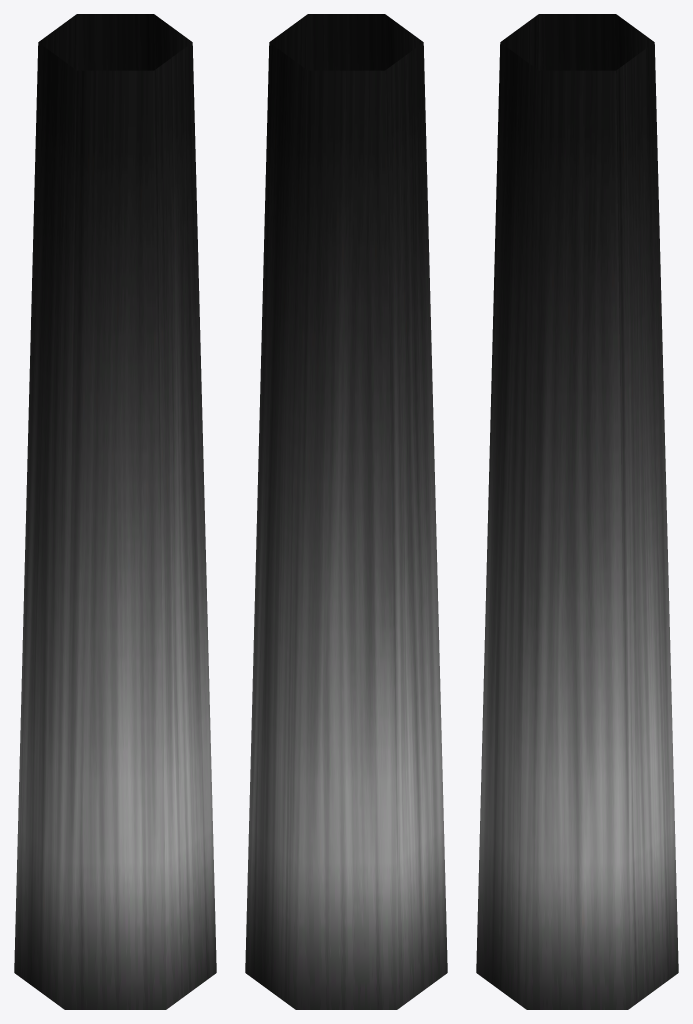
Rendered from fxHexHighlight.fbx.
The picture shows the model from 3 angles, left to right: view 1: azimuth 30°, elevation 25°; view 2: azimuth 150°, elevation 25°; view 3: azimuth 270°, elevation 25°; orthographic projection.
Visible parts, largest first — view 1: fxHexHighlight; view 2: fxHexHighlight; view 3: fxHexHighlight.
Boxes of the visible parts, x1,y1,x2,y2 form: fxHexHighlight: (14, 14, 216, 1009); fxHexHighlight: (245, 14, 447, 1009); fxHexHighlight: (476, 14, 678, 1009).
Bounding box in the file's own units: 2.99 × 17.51 × 3.45.
Materials: 1 (1 with a texture image).
